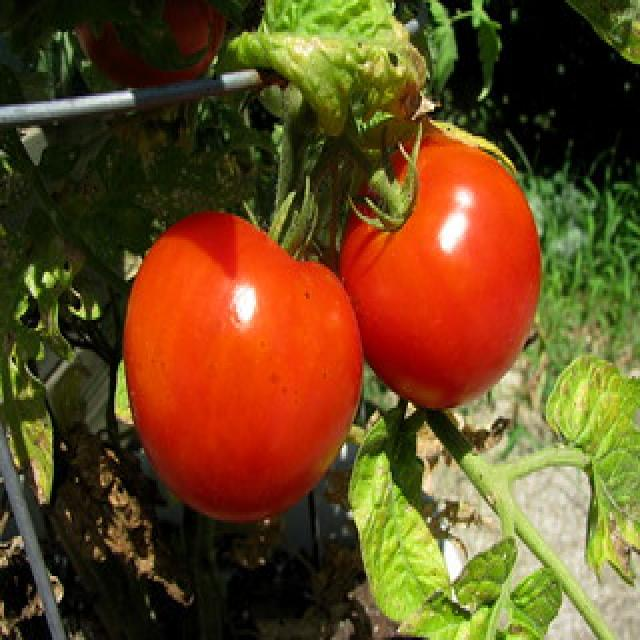Tomato: (119, 204, 370, 528), (346, 126, 546, 411)
